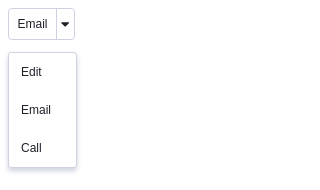
Component > RowControls › when clicking the control › when selecting a control › should select the control and close the dropdown
This screenshot has width=320, height=190.
Click the button "Call". click: (42, 148)
box: [9, 129, 76, 167]
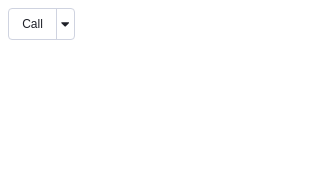
Now the number of buttons is 1, box [8, 8, 75, 40]
Now the text "Call" is shown, box [22, 17, 43, 31]
